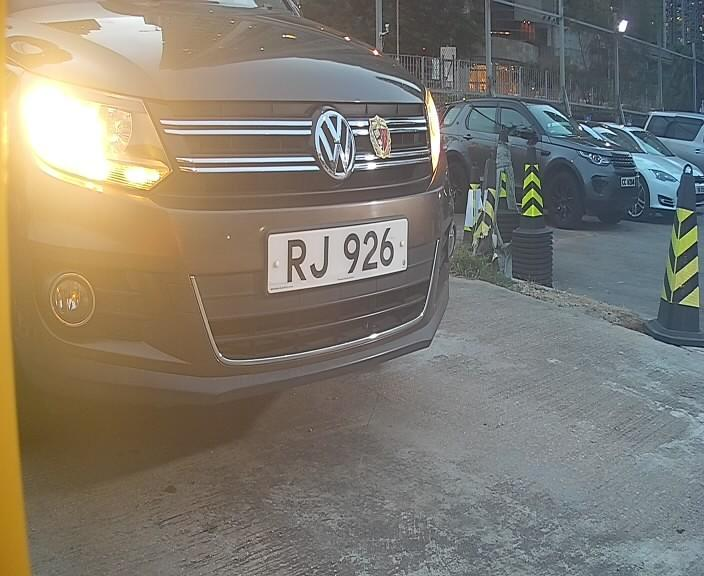privatecar: (5, 1, 467, 420)
